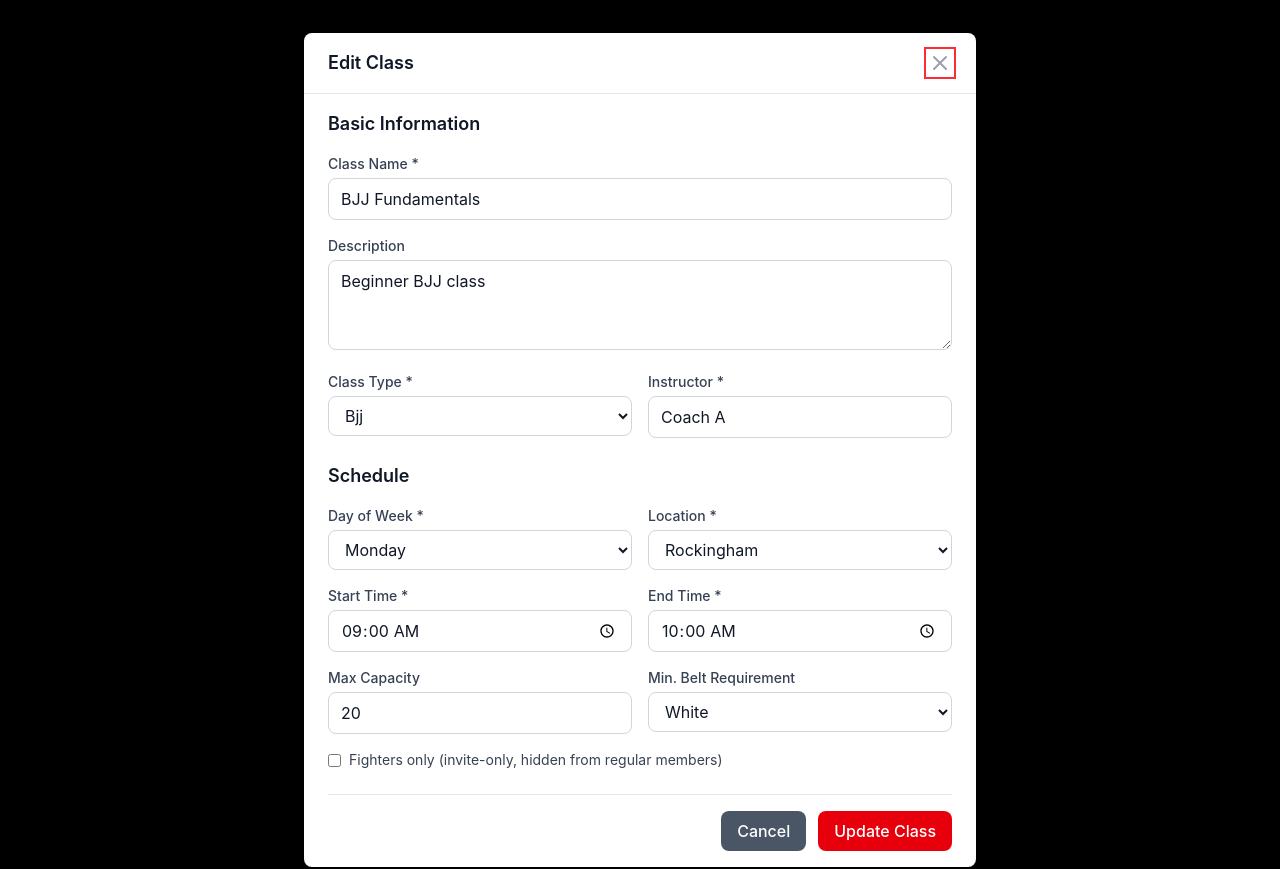
it: EditClassModal › shows error on API failure
Click the button "Update Class" at (885, 831), box 818,811 -> 952,851
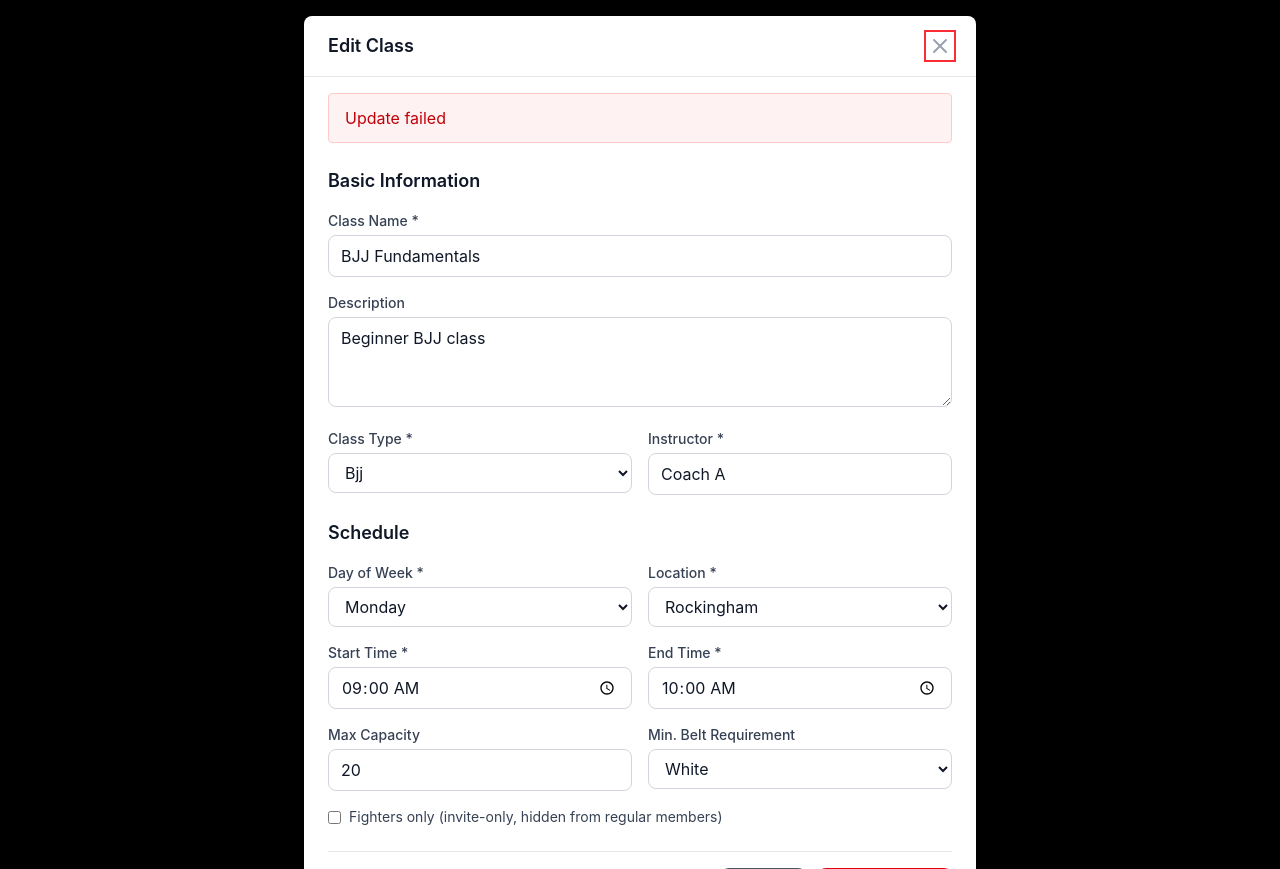
Expected: the text "Update failed" is shown, 328,93 -> 952,143
